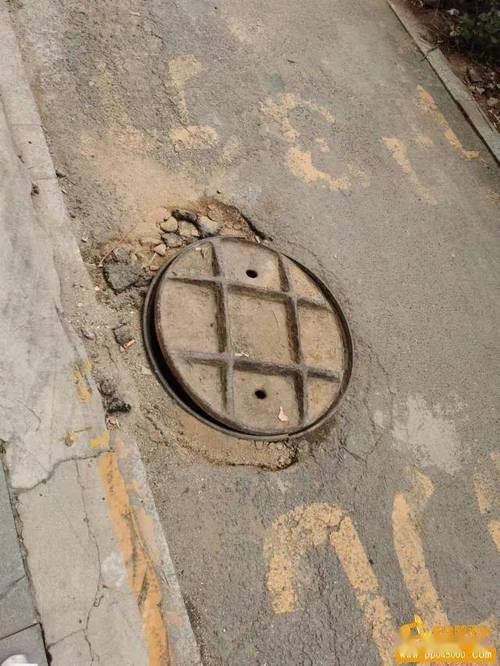circle: (55, 172, 375, 504)
